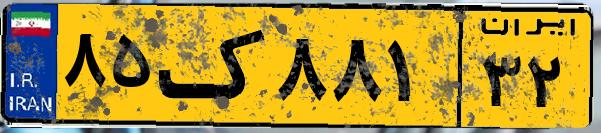1: (385, 28, 445, 110)
2: (525, 38, 570, 115)
3: (475, 38, 525, 113)
5: (110, 28, 158, 98)
8: (270, 28, 330, 110), (330, 28, 385, 110), (57, 26, 110, 100)
ک: (158, 12, 270, 120)
